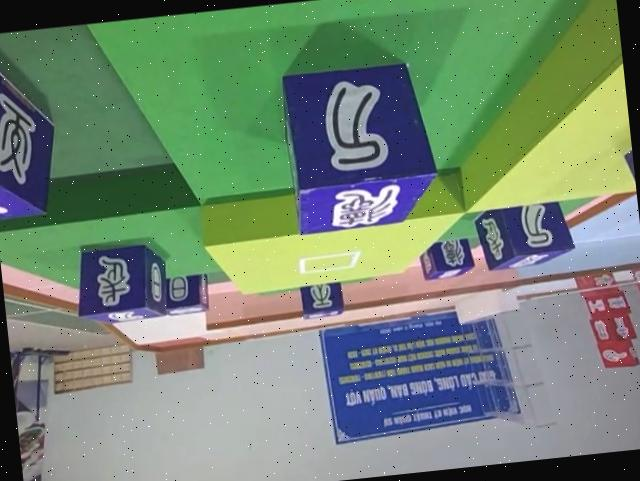R2 Fake Blue: (277, 55, 442, 239), (0, 40, 62, 225), (71, 239, 172, 325), (472, 197, 575, 272), (415, 235, 474, 280), (159, 270, 212, 314), (300, 280, 348, 320)
